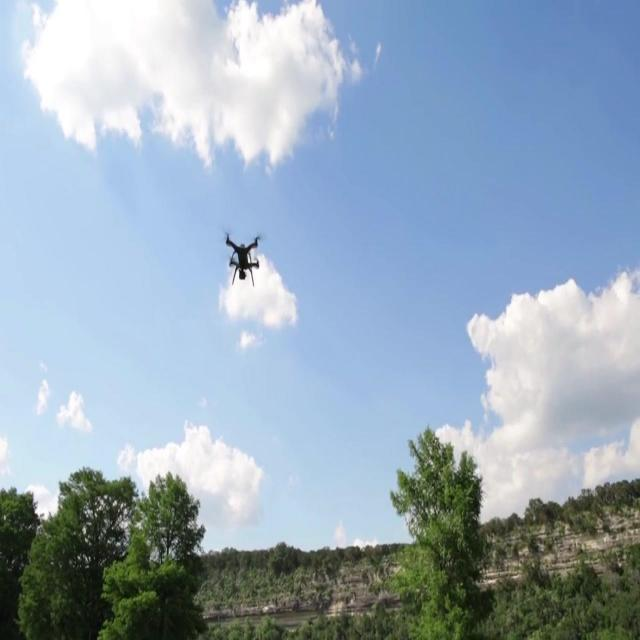UAV: (224, 233, 262, 287)
